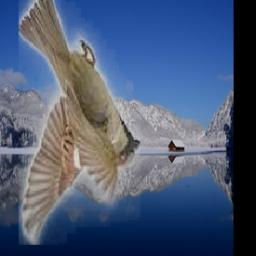Sparrow: (20, 0, 141, 245)
